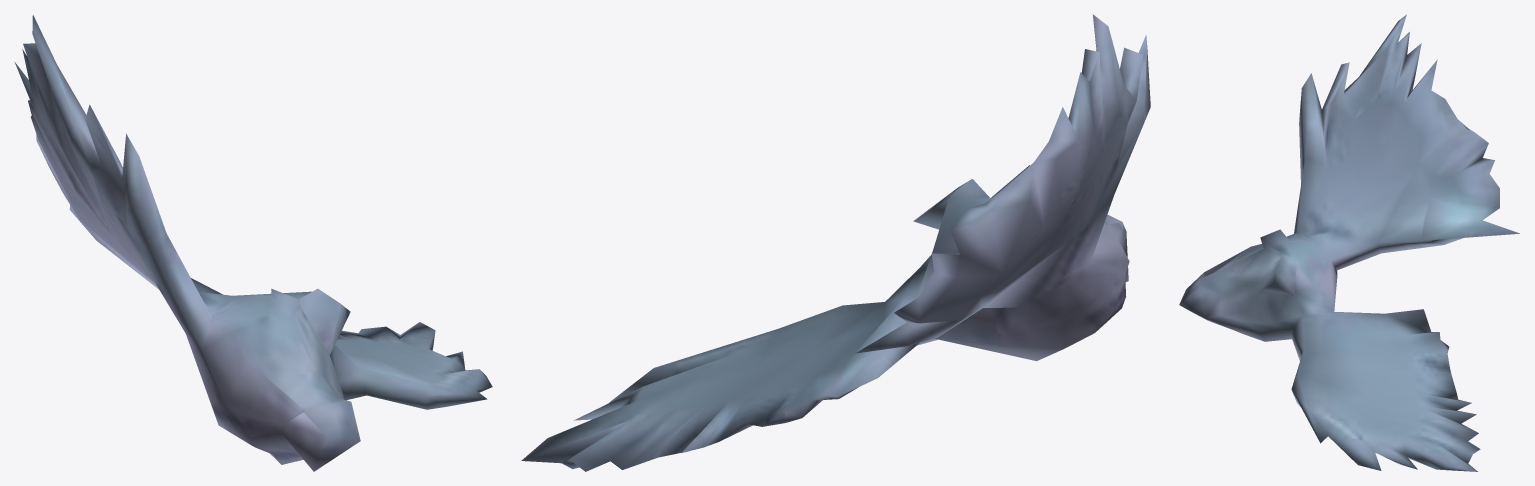
3 renders of one model, left to right at view 1: azimuth 30°, elevation 25°; view 2: azimuth 150°, elevation 25°; view 3: azimuth 270°, elevation 25°, orthographic. The views are drawn at different scales.
Visible parts, largest first — view 1: tripo_part_11; view 2: tripo_part_11; view 3: tripo_part_11.
Part boxes in pixels (x1,y1,x2,y2): tripo_part_11: (14, 15, 492, 471); tripo_part_11: (521, 14, 1150, 471); tripo_part_11: (1179, 14, 1519, 471).
Size of the model in its own units: 0.0957 by 0.0939 by 0.0924.
Materials: 1 (1 with a texture image).
